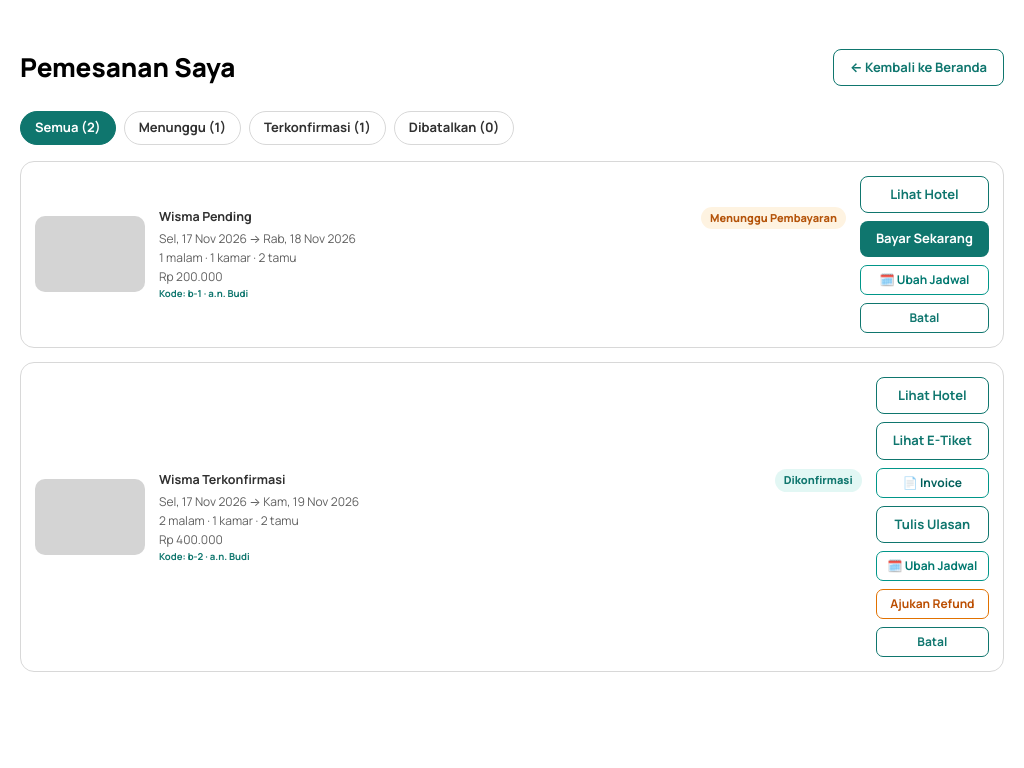
BookingsPage (filter status) › menyaring daftar pesanan berdasarkan tab status
Expected: the text "Wisma Pending" is shown, [159,208,252,227]
Expected: the text "Wisma Terkonfirmasi" is shown, [159,471,286,490]
Click the button "Terkonfirmasi (1)": (317, 128) [249,111,386,144]
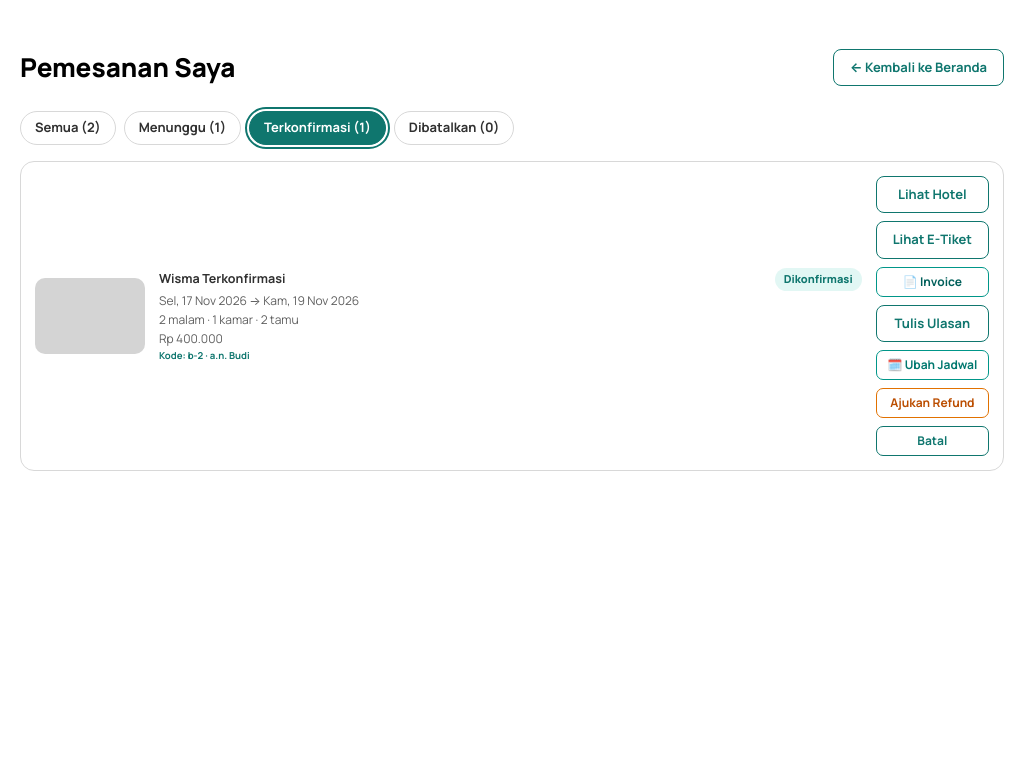
Expected: the text "Wisma Terkonfirmasi" is shown, [159,270,286,289]
Expected: the text "Wisma Pending" is gone
Click the button "Dibatalkan (0)": (454, 128) [394,111,514,144]
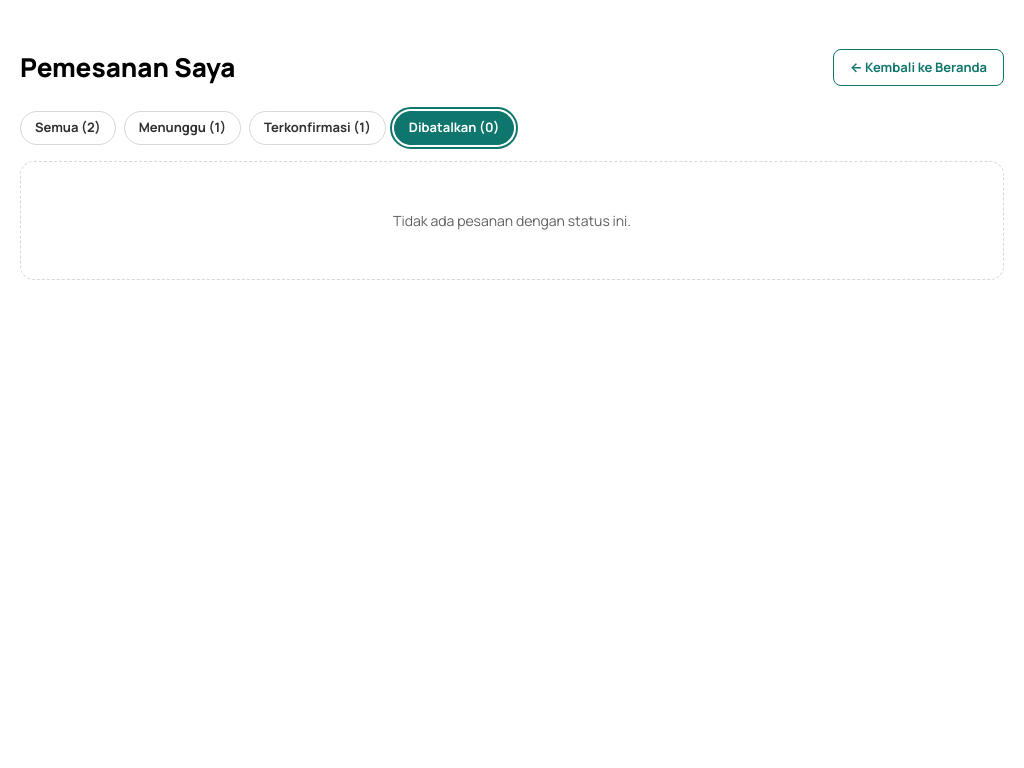
Expected: the text "Tidak ada pesanan dengan status ini." is shown, [20,160,1004,280]
